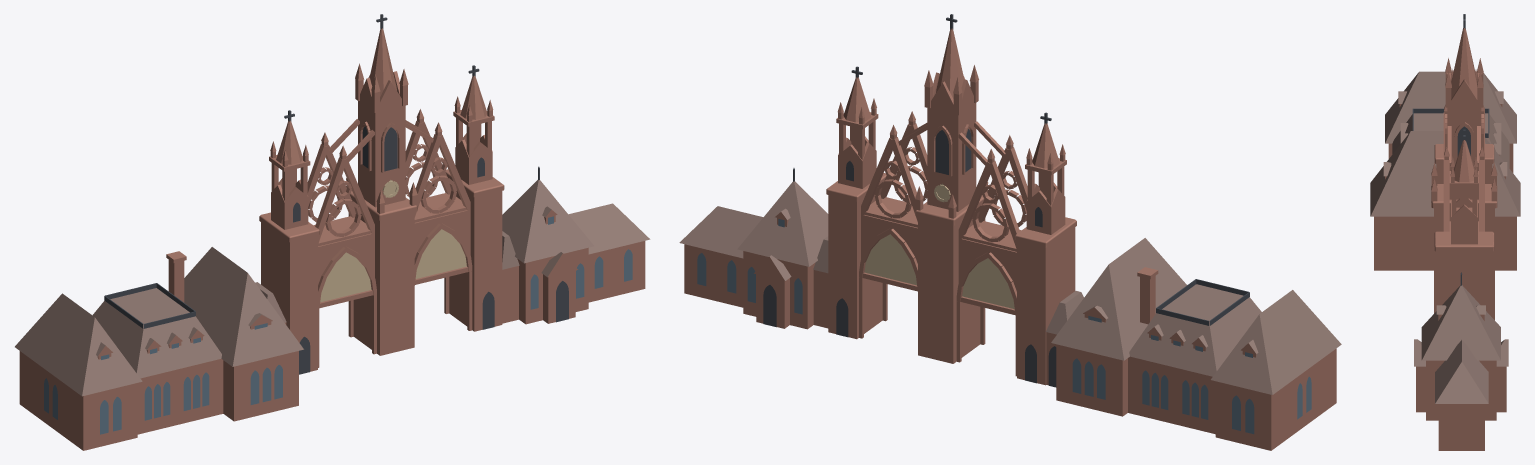
Rendered from nyc-green-wood-gate.glb.
The picture shows the model from 3 angles, left to right: view 1: azimuth 30°, elevation 25°; view 2: azimuth 150°, elevation 25°; view 3: azimuth 270°, elevation 25°; orthographic projection. The views are drawn at different scales.
Parts seen in each view (by area): view 1: Green-Wood Cemetery Main Gate; view 2: Green-Wood Cemetery Main Gate; view 3: Green-Wood Cemetery Main Gate.
Boxes of the visible parts, x1=… form: Green-Wood Cemetery Main Gate: x1=15, y1=14, x2=650, y2=450; Green-Wood Cemetery Main Gate: x1=679, y1=14, x2=1341, y2=450; Green-Wood Cemetery Main Gate: x1=1370, y1=14, x2=1520, y2=450.
Bounding box in the file's own units: 54.8 × 28.7 × 12.3.
